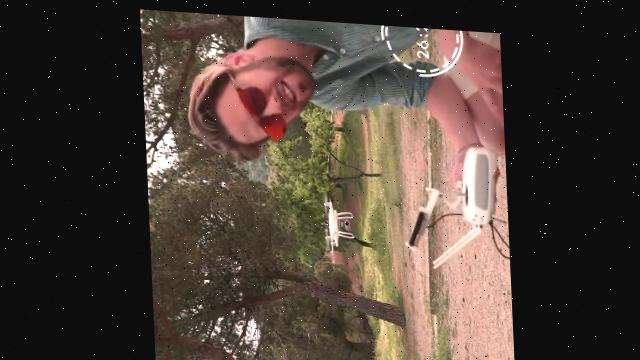drone: (317, 184, 355, 252)
